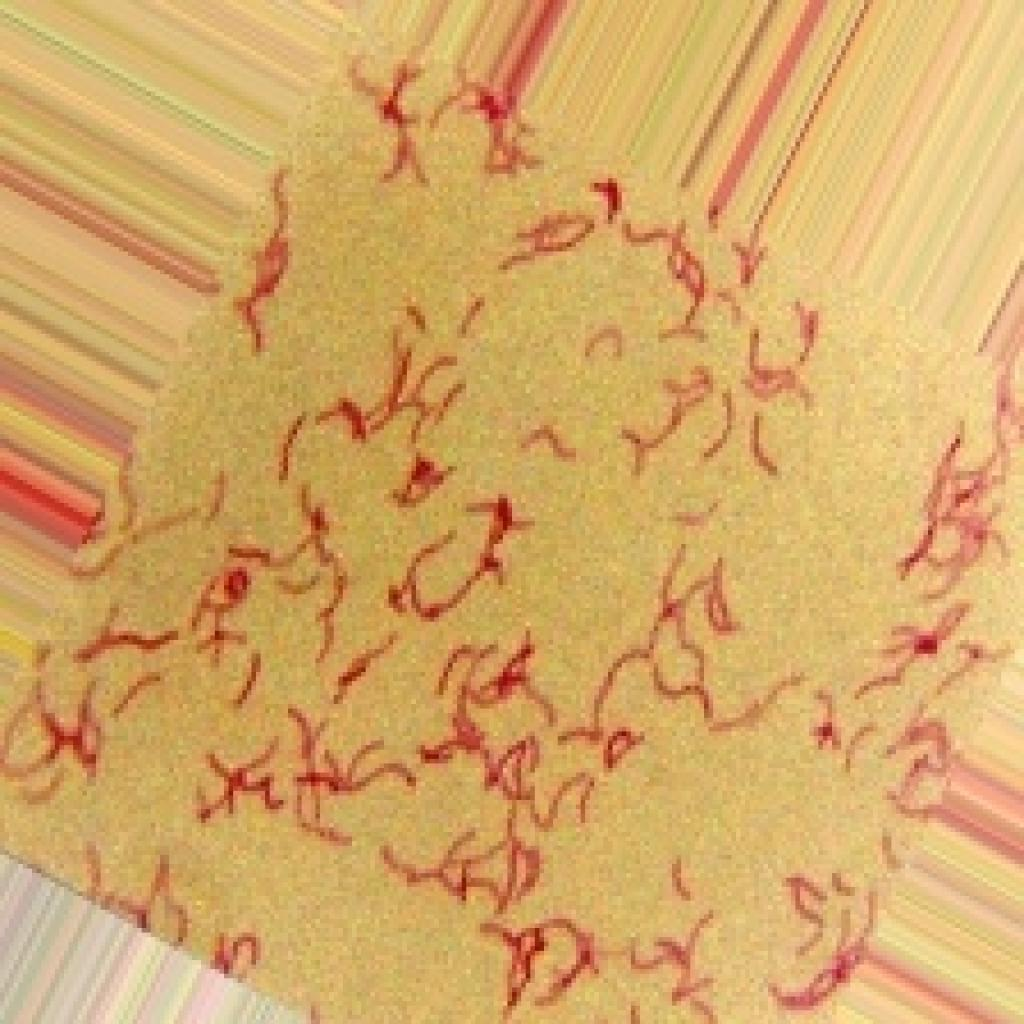Sprialbacteria: (0, 18, 1019, 1019)
